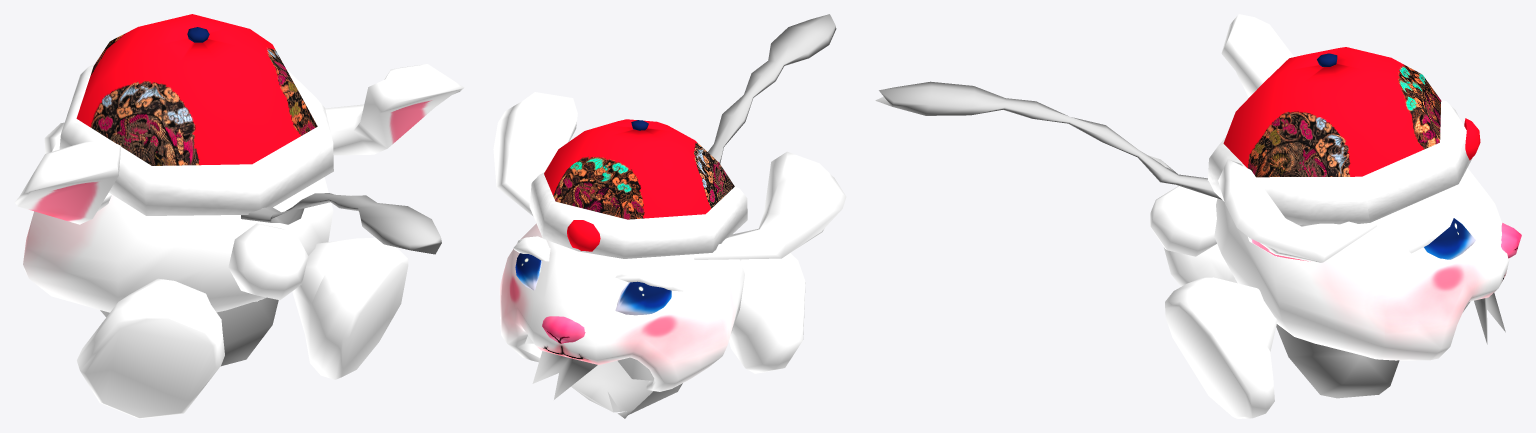
The model's file is Heaven2.glb.
3 views of the same model, side by side, from view 1: azimuth 30°, elevation 25°; view 2: azimuth 150°, elevation 25°; view 3: azimuth 270°, elevation 25° (orthographic). The views are drawn at different scales.
Parts seen in each view (by area): view 1: reabbit_hat; view 2: reabbit_hat; view 3: reabbit_hat.
Boxes of the visible parts, x1,y1,x2,y2 form: reabbit_hat: (14, 14, 464, 418); reabbit_hat: (493, 14, 846, 418); reabbit_hat: (875, 14, 1521, 418).
Size of what is drawn, in the model's own units: 1.16 by 0.9004 by 1.56.
2 materials, 1 textured.
